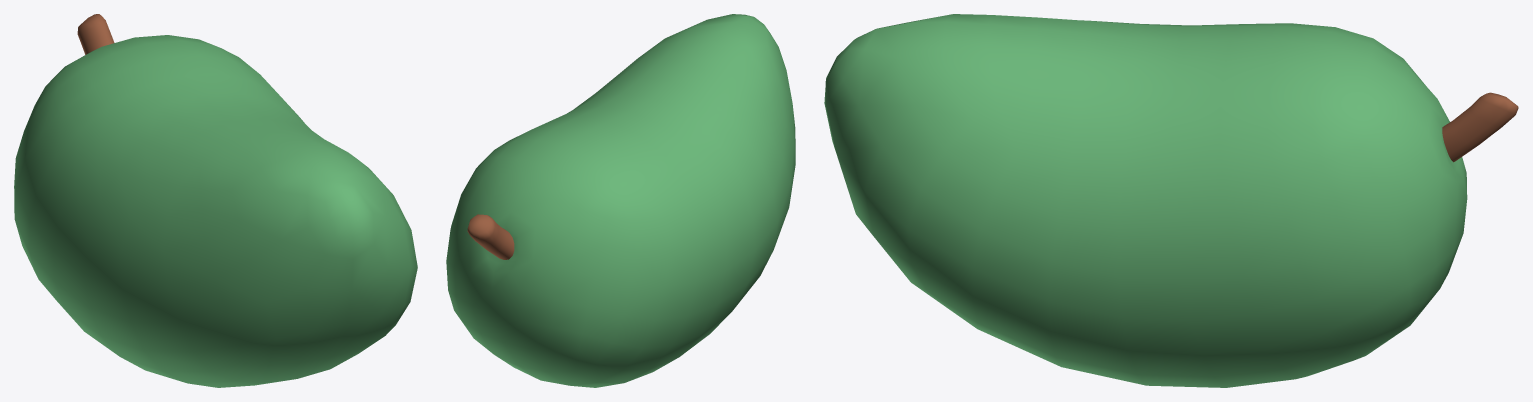
File: Mango_03.dae
3 views of the same model, side by side, from view 1: azimuth 30°, elevation 25°; view 2: azimuth 150°, elevation 25°; view 3: azimuth 270°, elevation 25° (orthographic). The views are drawn at different scales.
Parts seen in each view (by area): view 1: Mango_03_LOD0; view 2: Mango_03_LOD0; view 3: Mango_03_LOD0.
Part boxes in pixels (<box>): Mango_03_LOD0: <box>14,14,417,387</box>; Mango_03_LOD0: <box>446,14,795,387</box>; Mango_03_LOD0: <box>824,14,1518,387</box>.
Size of what is drawn, in the model's own units: 3.28 by 6.35 by 3.45.
